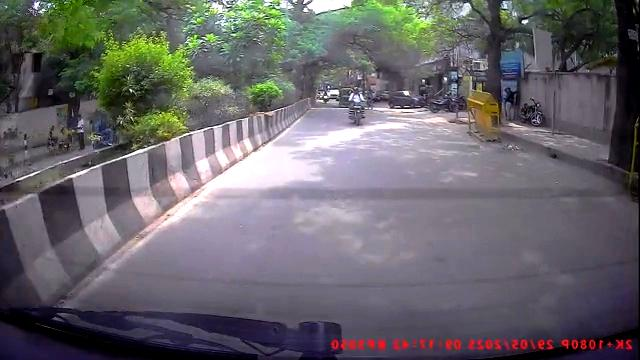motorcycle_with_helmet: (346, 85, 367, 128)
